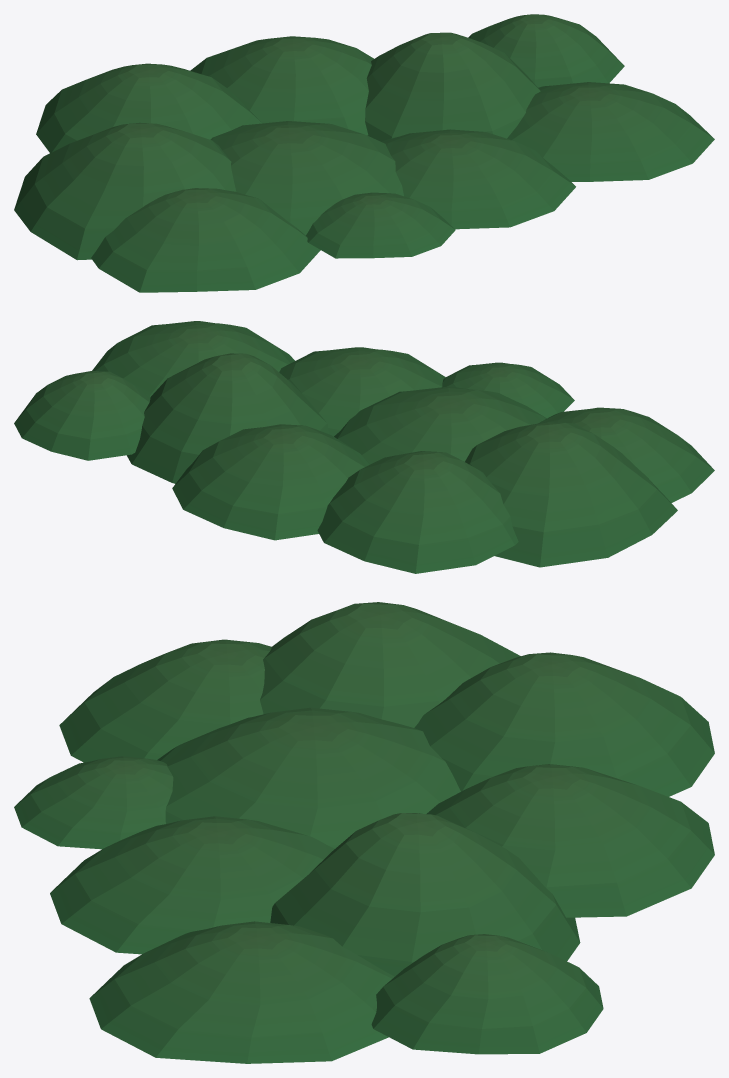
The model's file is nature_big_hills_mdl.fbx.
The picture shows the model from 3 angles, top to bottom: view 1: azimuth 30°, elevation 25°; view 2: azimuth 150°, elevation 25°; view 3: azimuth 270°, elevation 25°; orthographic projection. The views are drawn at different scales.
Parts seen in each view (by area): view 1: BigHills_geo; view 2: BigHills_geo; view 3: BigHills_geo.
Boxes of the visible parts, x1,y1,x2,y2 form: BigHills_geo: (14,14,714,292); BigHills_geo: (14,321,714,573); BigHills_geo: (14,602,714,1063).
Size of the model in its own units: 9879 by 1374 by 6962.
